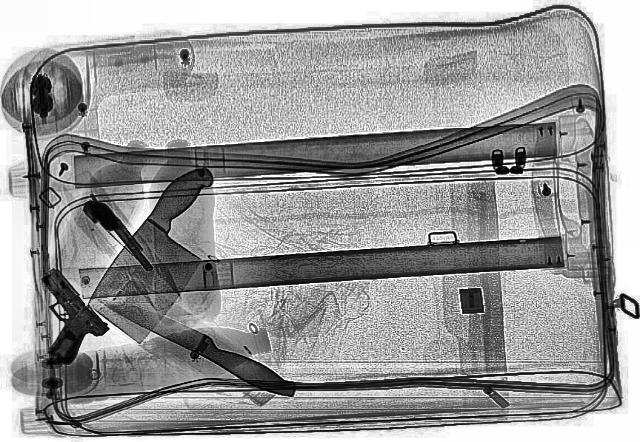Gun: (0, 274, 126, 364), (75, 196, 167, 272)
Knife: (70, 161, 252, 347), (87, 289, 306, 401)
